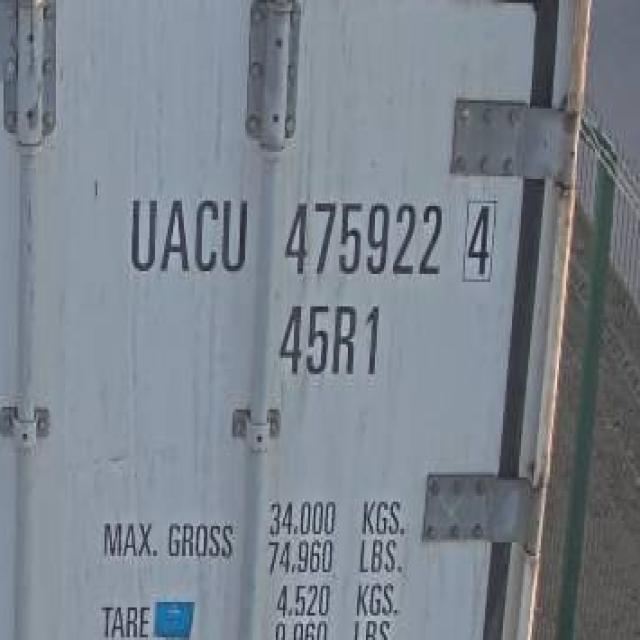dv: (458, 194, 500, 284)
owner: (120, 185, 253, 282)
serial: (282, 188, 446, 286)
size: (266, 296, 388, 379)
